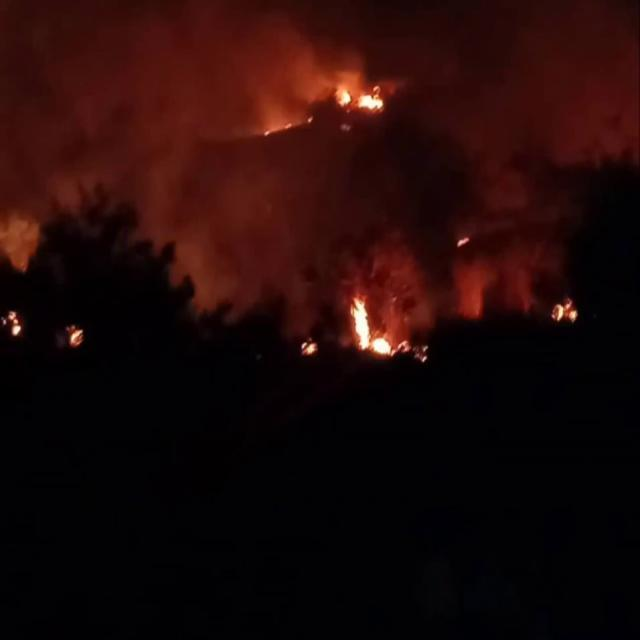Fire: (346, 289, 399, 363), (332, 74, 388, 118), (548, 294, 580, 326)
Smoke: (0, 0, 379, 294)
